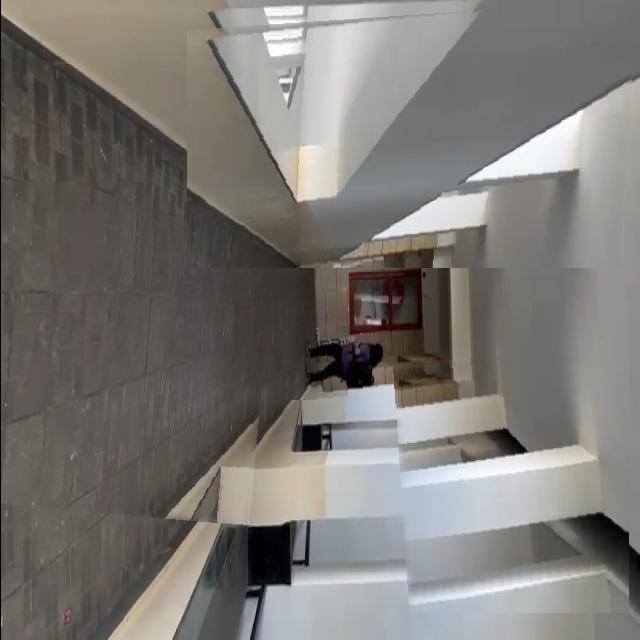floor: (0, 182, 279, 526)
moving_object: (288, 326, 382, 400)
wall: (186, 0, 636, 268), (392, 342, 628, 613)
